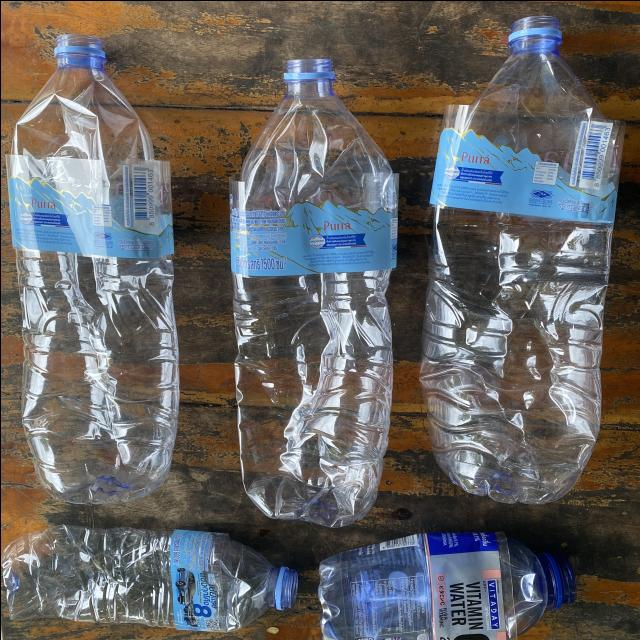plastik: (418, 14, 623, 502), (5, 34, 178, 502), (228, 58, 397, 526), (0, 524, 296, 632), (317, 531, 576, 640)
